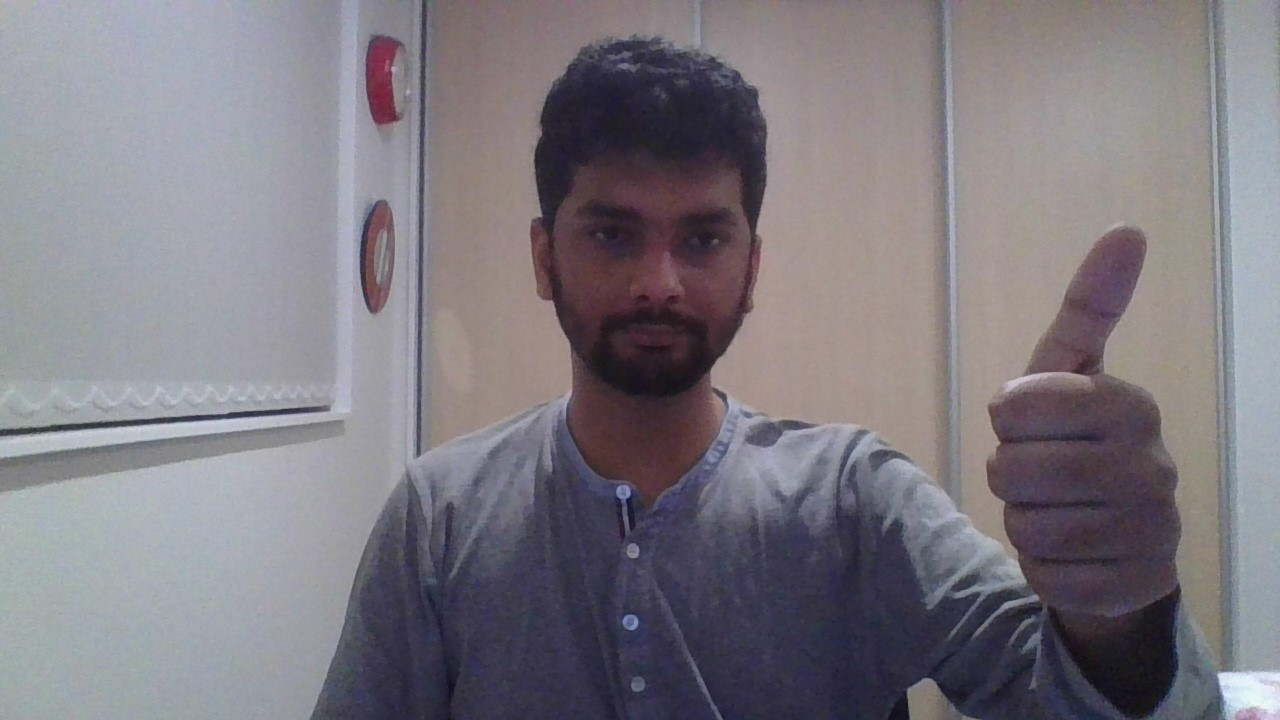good: (985, 224, 1183, 617)
